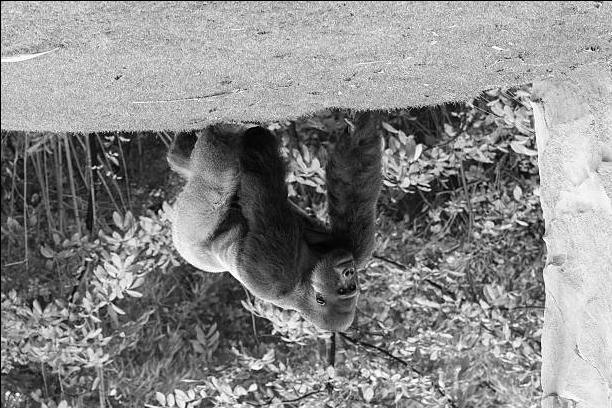gorille_Autres: (160, 109, 388, 352)
